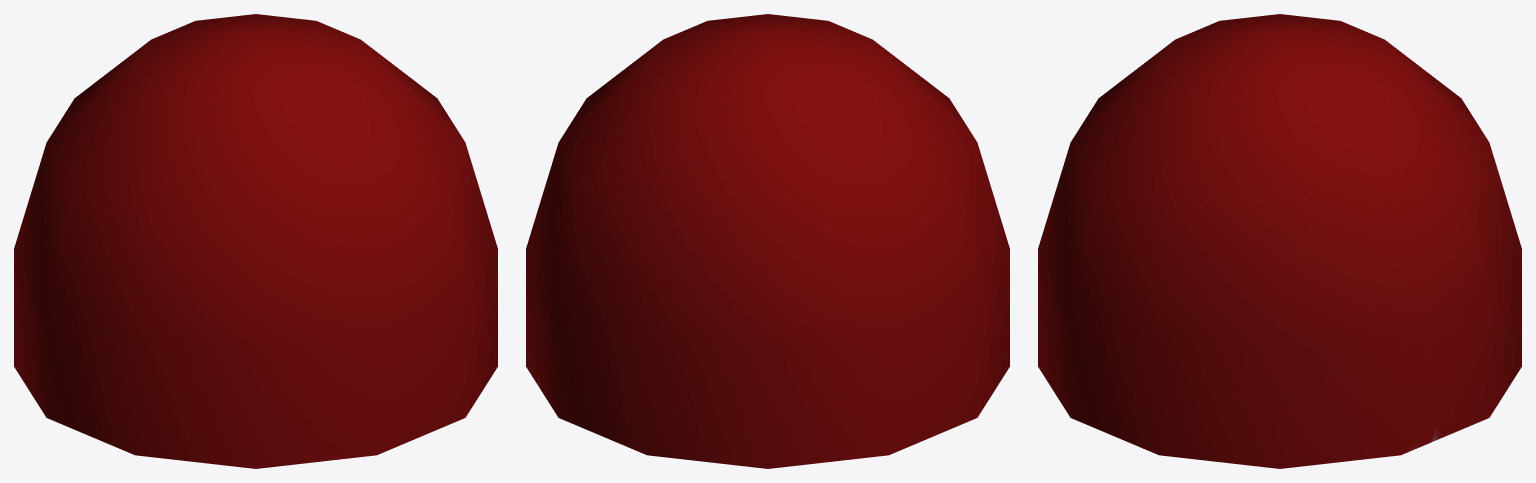
File: Console_Light_Red.fbx
3 views of the same model, side by side, from view 1: azimuth 30°, elevation 25°; view 2: azimuth 150°, elevation 25°; view 3: azimuth 270°, elevation 25° (orthographic).
Parts seen in each view (by area): view 1: Console_Light_Red; view 2: Console_Light_Red; view 3: Console_Light_Red.
Boxes of the visible parts, box(x1,y1,x2,y2) form: Console_Light_Red: box(14, 14, 497, 468); Console_Light_Red: box(526, 14, 1009, 468); Console_Light_Red: box(1038, 14, 1521, 468).
Size of the model in its own units: 2.36 by 1.77 by 2.36.
